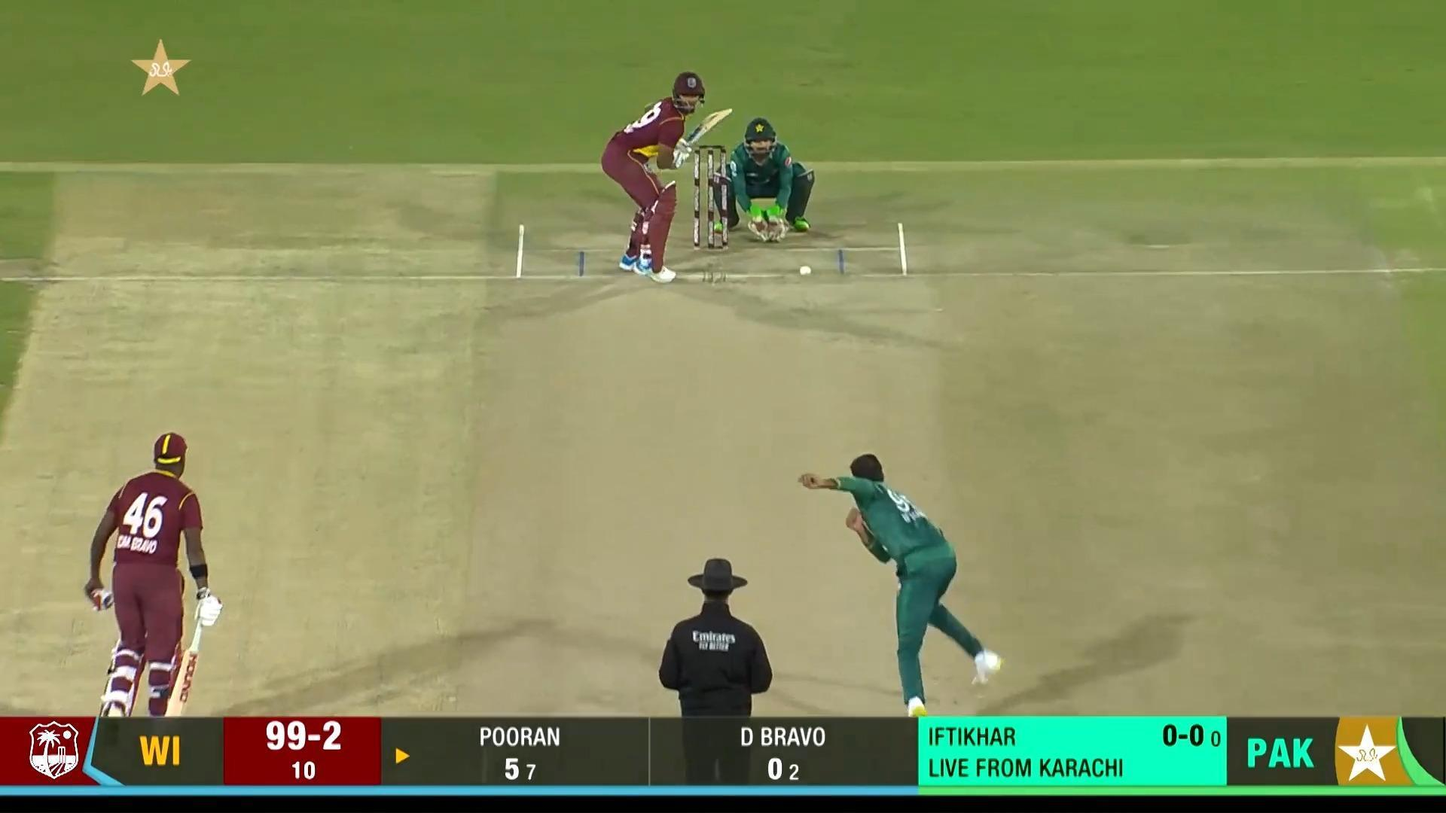BM 1: (601, 71, 733, 284)
BO: (796, 450, 1004, 729)
